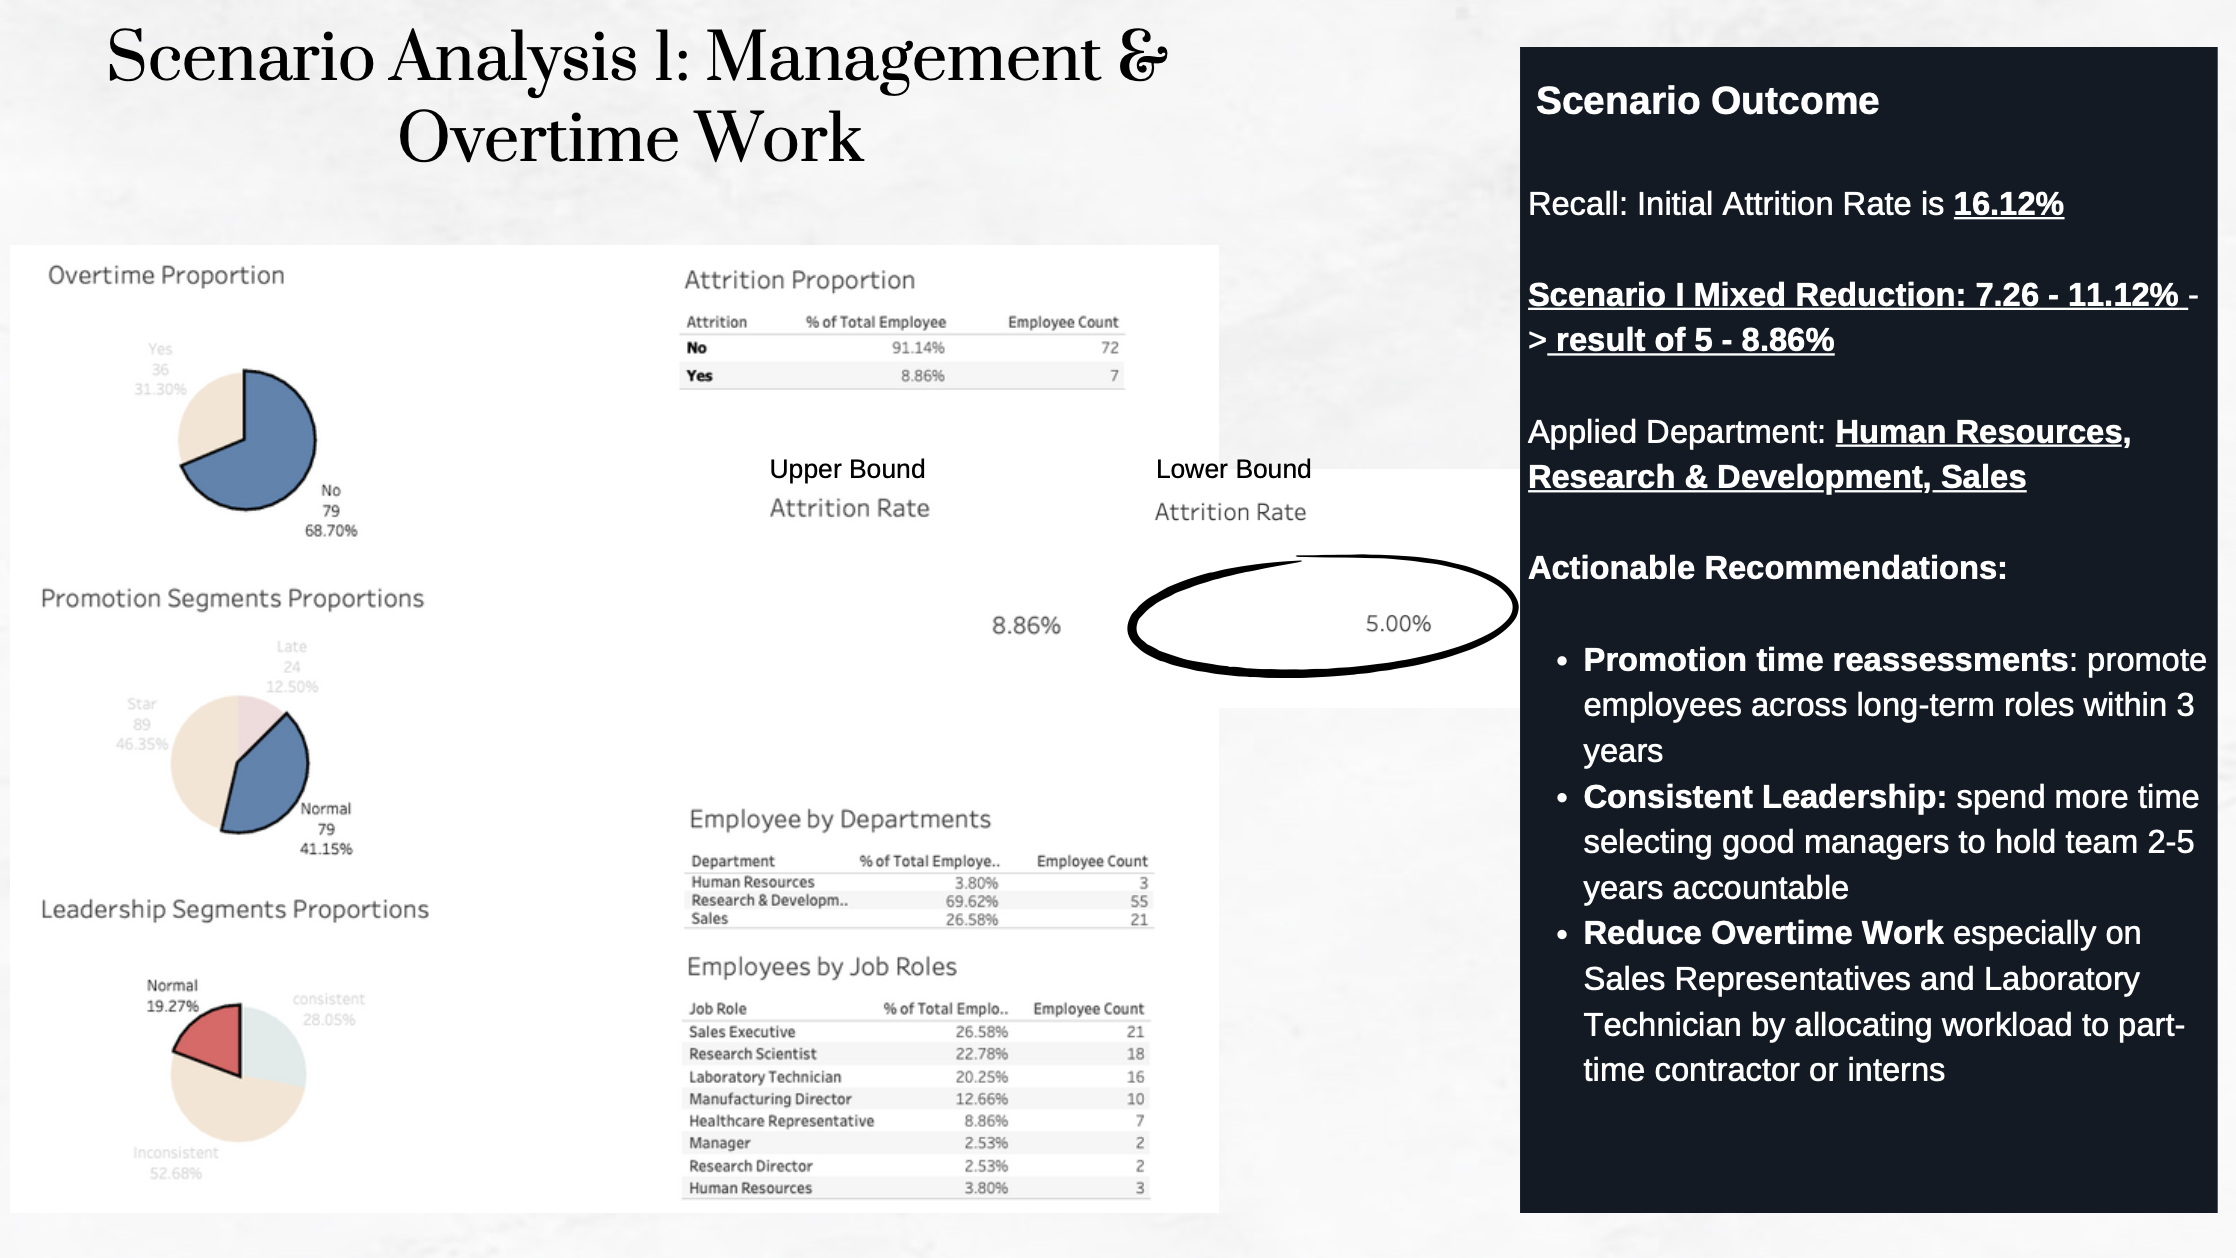

The page's visual inventory and layout, read from the dashboard file:
{"tool":"tableau","page":{"name":"Mixed Scenario","canvas":[1000,800],"ordinal":1},"visuals":[{"type":"worksheet","title":"Overtime Proportion","mark":"Pie","box":[33,6,333,266]},{"type":"worksheet","title":"Attrition Proportion","mark":"Automatic","rows":["Attrition"],"box":[555,10,366,109]},{"type":"legend","title":"Attrition Proportion","param":"[federated.19oo0ka09x9gx516oha0k1291z12].[sum:EmployeeCount:qk]","box":[619,35,140,38]},{"type":"worksheet","title":"Attrition Rate","mark":"Automatic","box":[625,197,247,187]},{"type":"worksheet","title":"Promotion Segments Proportions","mark":"Pie","box":[27,271,333,266]},{"type":"worksheet","title":"Employee by Departments","mark":"Automatic","rows":["Department"],"box":[559,452,386,109]},{"type":"worksheet","title":"Leadership Segments Proportions","mark":"Pie","box":[27,526,333,266]},{"type":"worksheet","title":"Employees by Job Roles","mark":"Automatic","rows":["JobRole"],"box":[557,573,385,210]}]}

Visuals, with their boxes on the page's 1000x800 design canvas (x1, y1, x2, y2). These are canvas units, not pixel positions in the 2236x1258 screenshot, which may show the page scaled, cropped or inside an application window:
"Overtime Proportion" worksheet (Pie marks): [x1=33, y1=6, x2=366, y2=272]
"Attrition Proportion" worksheet: [x1=555, y1=10, x2=921, y2=119]
"Attrition Proportion" legend: [x1=619, y1=35, x2=759, y2=73]
"Attrition Rate" worksheet: [x1=625, y1=197, x2=872, y2=384]
"Promotion Segments Proportions" worksheet (Pie marks): [x1=27, y1=271, x2=360, y2=537]
"Employee by Departments" worksheet: [x1=559, y1=452, x2=945, y2=561]
"Leadership Segments Proportions" worksheet (Pie marks): [x1=27, y1=526, x2=360, y2=792]
"Employees by Job Roles" worksheet: [x1=557, y1=573, x2=942, y2=783]
